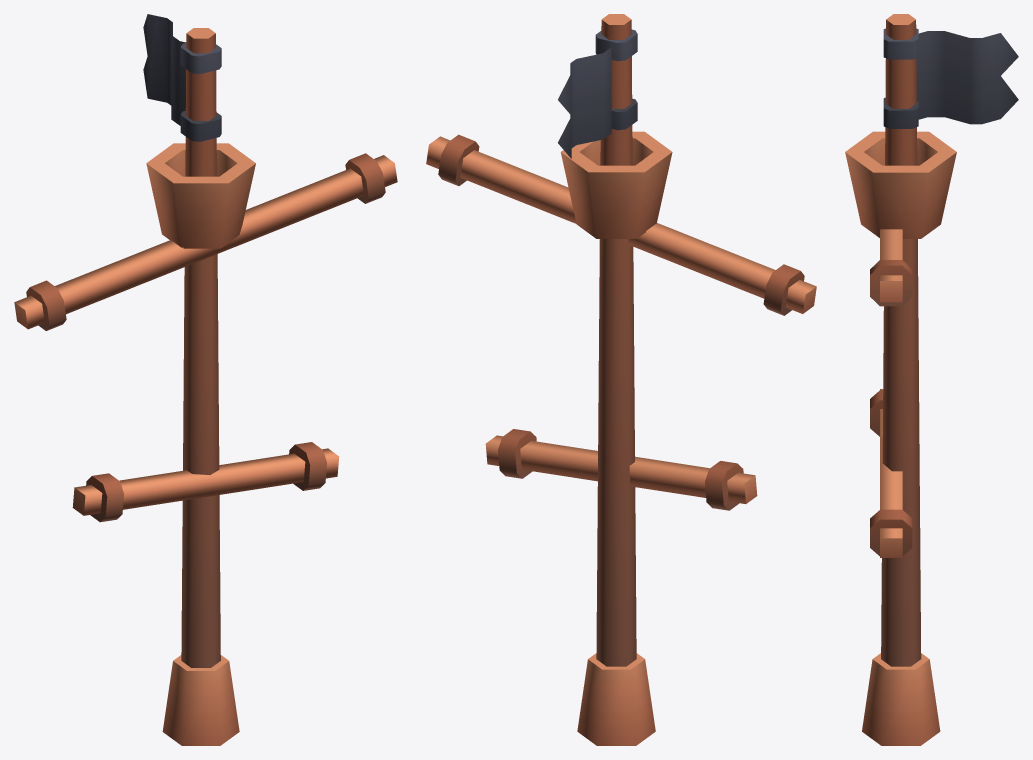
The model's file is mast.glb.
3 renders of one model, left to right at view 1: azimuth 30°, elevation 25°; view 2: azimuth 150°, elevation 25°; view 3: azimuth 270°, elevation 25°, orthographic.
Parts seen in each view (by area): view 1: mast; view 2: mast; view 3: mast.
Part boxes in pixels (left/top/right/bottom): mast: left=14, top=14, right=397, bottom=745; mast: left=426, top=14, right=816, bottom=745; mast: left=845, top=14, right=1018, bottom=745.
Bounding box in the file's own units: 4.39 × 7.86 × 1.74.
Materials: 1 (1 with a texture image).
